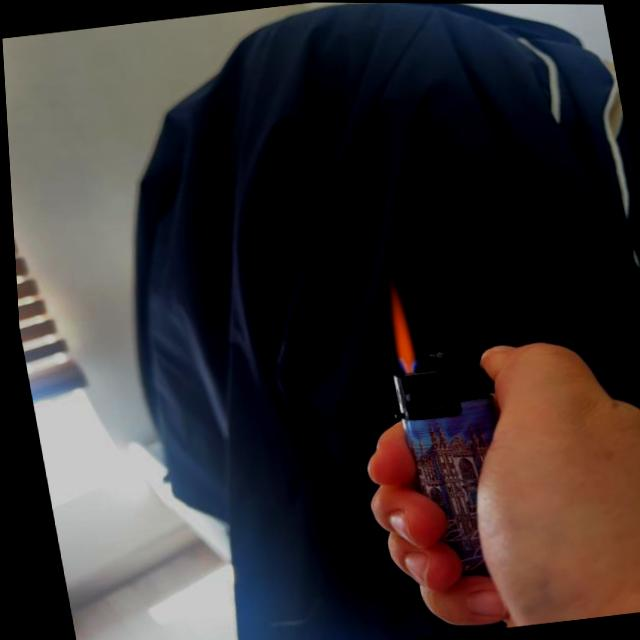Fire: (376, 279, 416, 369)
